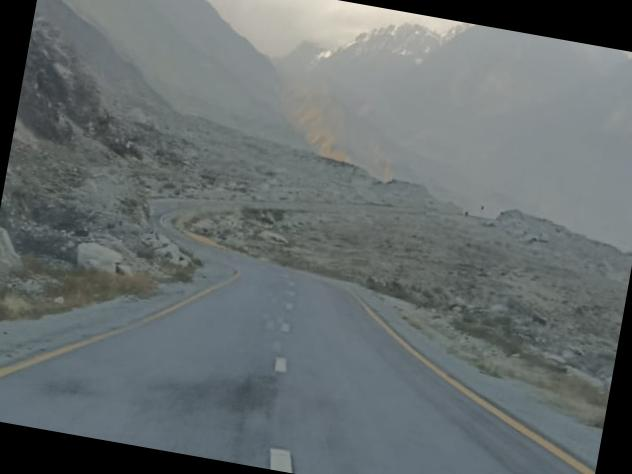left_turn: (186, 228, 400, 334)
